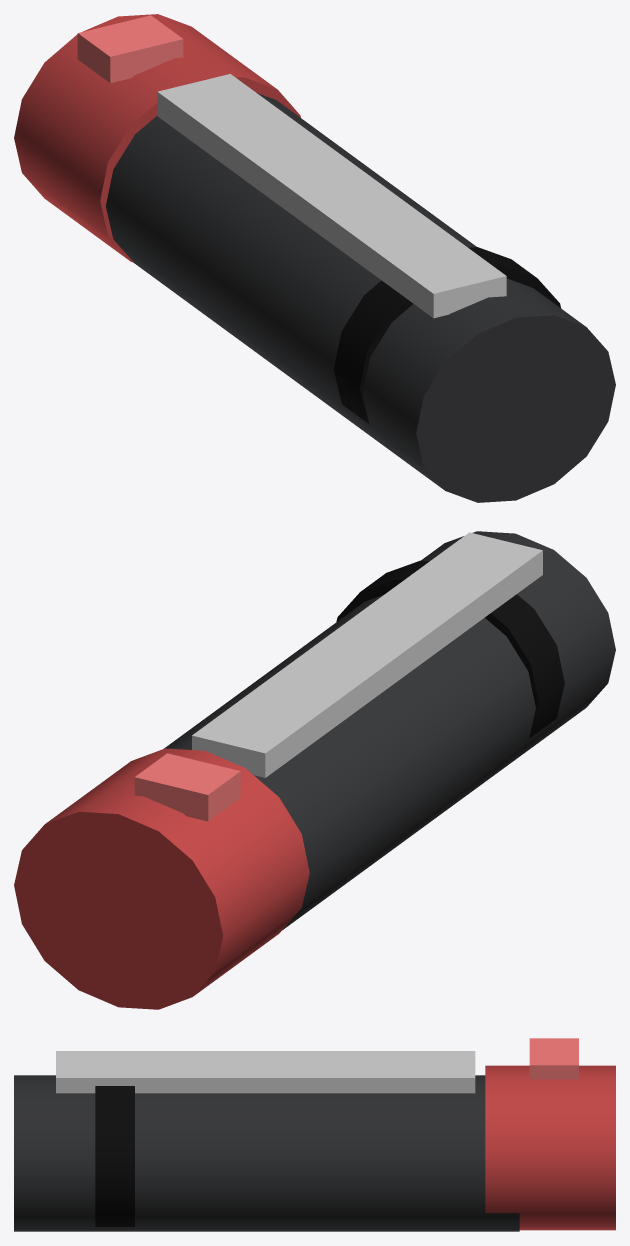
The model's file is CMU3DFieldCMGrenadeHighExplosiveCloud.glb.
3 views of the same model, one above another, from view 1: azimuth 30°, elevation 25°; view 2: azimuth 150°, elevation 25°; view 3: azimuth 270°, elevation 25° (orthographic). The views are drawn at different scales.
Parts seen in each view (by area): view 1: dark cylindrical body, silver long body inset, rounded colored cap, dark lower collar, cap upper light; view 2: rounded colored cap, dark cylindrical body, silver long body inset, dark lower collar, cap upper light; view 3: dark cylindrical body, rounded colored cap, silver long body inset, dark lower collar, cap upper light.
Part boxes in pixels (bbox=[...]): dark cylindrical body: bbox=[105, 93, 615, 502]; silver long body inset: bbox=[157, 74, 506, 318]; rounded colored cap: bbox=[14, 14, 300, 262]; dark lower collar: bbox=[333, 247, 561, 423]; cap upper light: bbox=[77, 15, 183, 83]; rounded colored cap: bbox=[14, 748, 309, 1009]; dark cylindrical body: bbox=[164, 531, 615, 930]; silver long body inset: bbox=[192, 532, 542, 777]; dark lower collar: bbox=[336, 560, 564, 738]; cap upper light: bbox=[134, 753, 240, 821]; dark cylindrical body: bbox=[14, 1075, 519, 1231]; rounded colored cap: bbox=[485, 1065, 615, 1230]; silver long body inset: bbox=[56, 1051, 475, 1093]; dark lower collar: bbox=[95, 1086, 134, 1226]; cap upper light: bbox=[529, 1038, 578, 1079].
Size of the model in its own units: 0.1172 by 0.112 by 0.3812.
